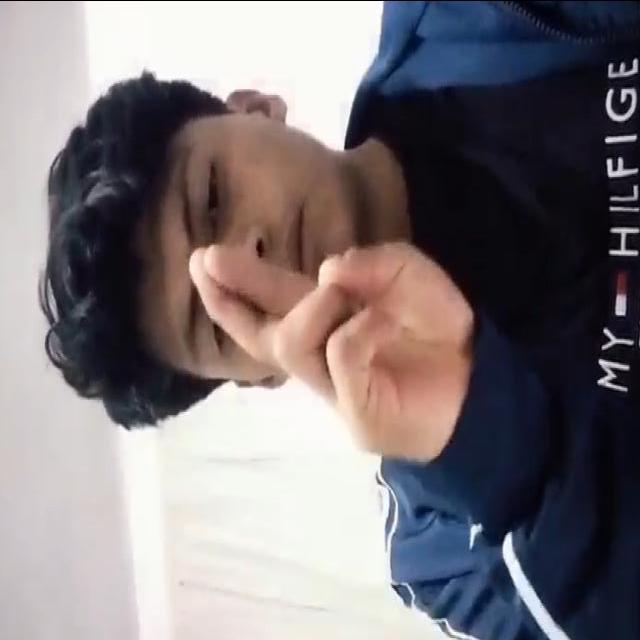R: (181, 207, 498, 478)
